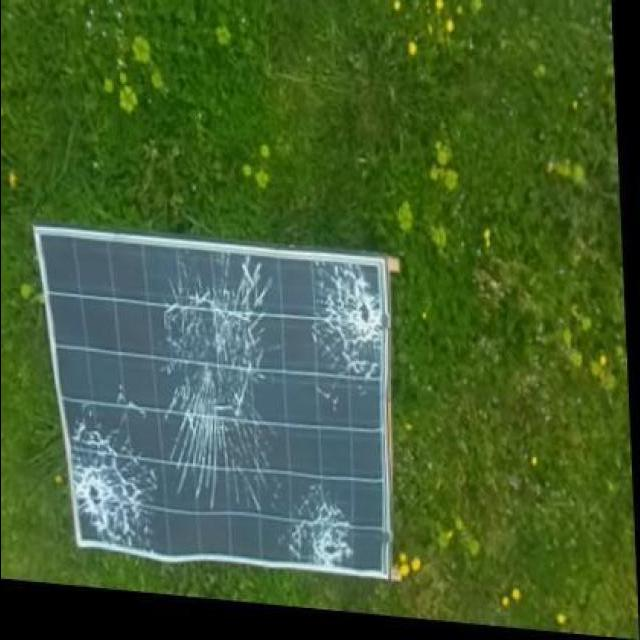cracked: (28, 220, 396, 578)
